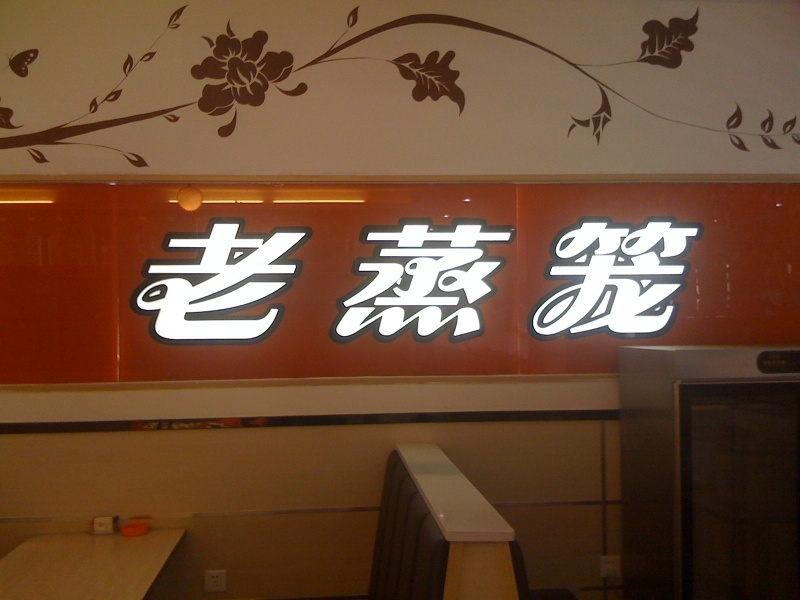text: (145, 214, 160, 345), (161, 214, 176, 345), (177, 214, 192, 345), (193, 214, 208, 345), (209, 214, 224, 345), (225, 214, 240, 345), (241, 214, 256, 345), (257, 214, 272, 345), (273, 214, 288, 345), (289, 214, 304, 345), (305, 214, 320, 345), (321, 214, 336, 345), (337, 214, 352, 345), (353, 214, 368, 345), (369, 214, 384, 345), (385, 214, 400, 345), (401, 214, 416, 345), (417, 214, 432, 345), (433, 214, 448, 345), (449, 214, 464, 345), (465, 214, 480, 345), (481, 214, 496, 345), (497, 214, 512, 345), (513, 214, 528, 345), (529, 214, 544, 345), (545, 214, 560, 345), (561, 214, 576, 345), (577, 214, 592, 345), (593, 214, 608, 345), (609, 214, 624, 345), (625, 214, 640, 345), (641, 214, 656, 345), (657, 214, 672, 345), (673, 214, 688, 345), (689, 214, 704, 345), (130, 214, 144, 345), (705, 214, 709, 345)
